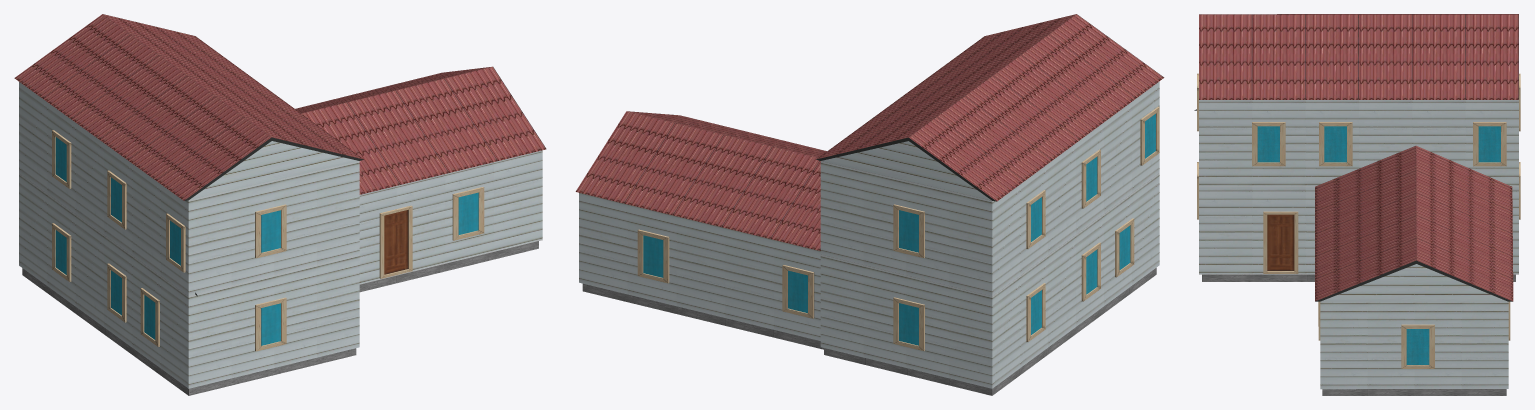
File: Hus5.glb
3 views of the same model, side by side, from view 1: azimuth 30°, elevation 25°; view 2: azimuth 150°, elevation 25°; view 3: azimuth 270°, elevation 25° (orthographic). The views are drawn at different scales.
Visible parts, largest first — view 1: Hus5; view 2: Hus5; view 3: Hus5.
Part boxes in pixels (x1,y1,x2,y2): Hus5: (14, 14, 546, 395); Hus5: (575, 14, 1164, 395); Hus5: (1194, 14, 1520, 395).
Size of the model in its own units: 16.83 by 9.07 by 11.82.
1 material, 1 textured.
